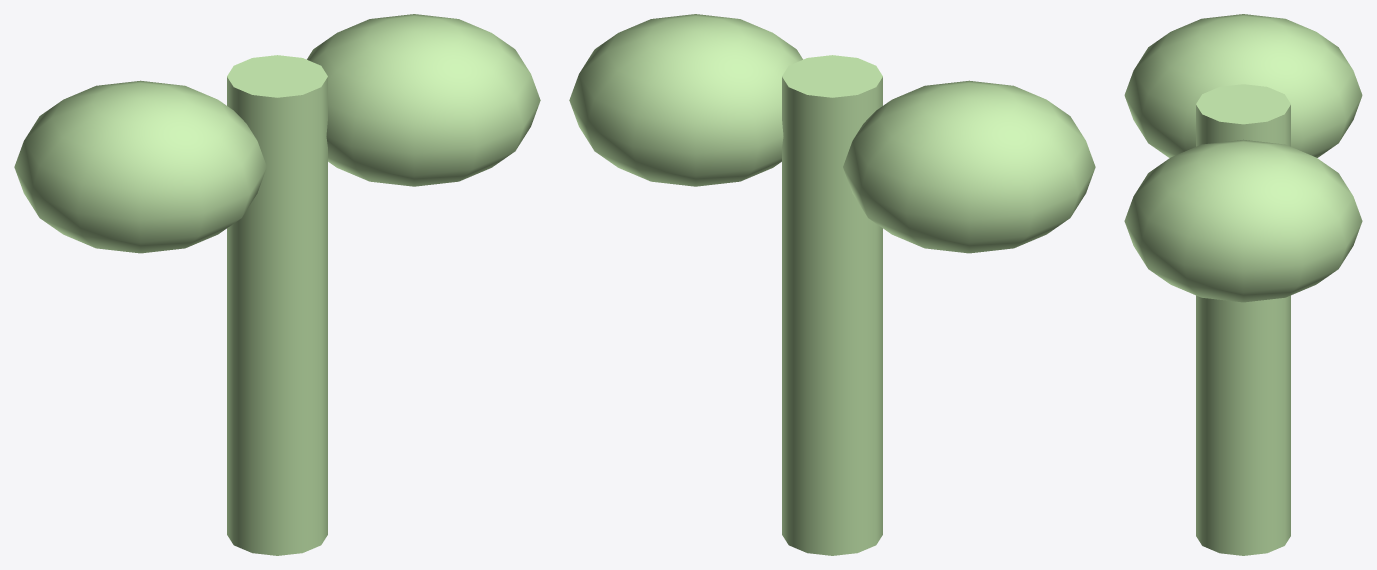
Rendered from crop_lettuce_sprout.glb.
The picture shows the model from 3 angles, left to right: view 1: azimuth 30°, elevation 25°; view 2: azimuth 150°, elevation 25°; view 3: azimuth 270°, elevation 25°; orthographic projection. The views are drawn at different scales.
Parts seen in each view (by area): view 1: Crop_Lettuce_Sprout; view 2: Crop_Lettuce_Sprout; view 3: Crop_Lettuce_Sprout.
Boxes of the visible parts, x1,y1,x2,y2 form: Crop_Lettuce_Sprout: (14, 14, 540, 555); Crop_Lettuce_Sprout: (569, 14, 1095, 555); Crop_Lettuce_Sprout: (1124, 14, 1362, 555).
Bounding box in the file's own units: 0.09 × 0.082 × 0.04.
